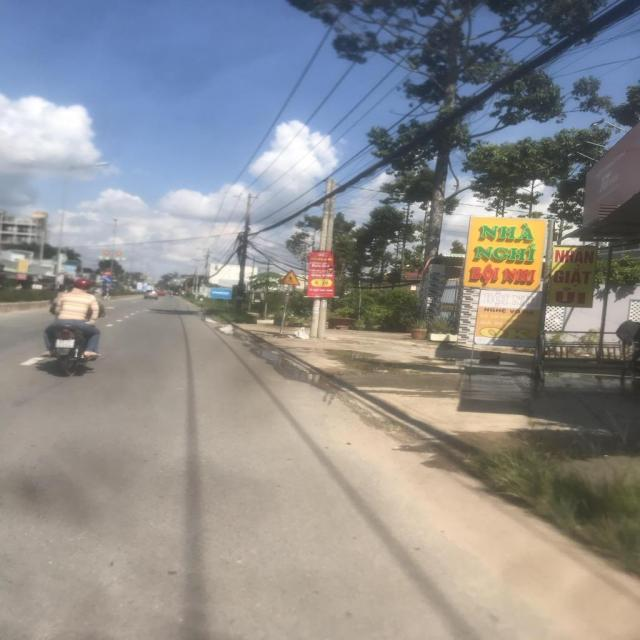cam_xe_di_nguoc_chieu: (104, 270, 112, 276)
chu_y_nguoi_di_bo_cat_ngang: (278, 270, 301, 286)
huong_phai_di_vuot_chuong_ngai_vat_phai: (104, 276, 111, 282)
